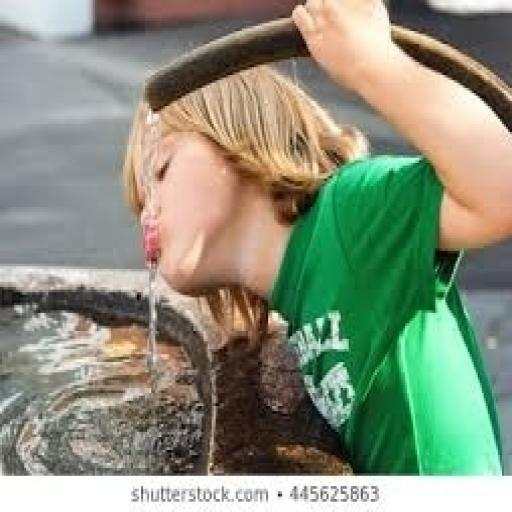drinking: (125, 0, 510, 473)
